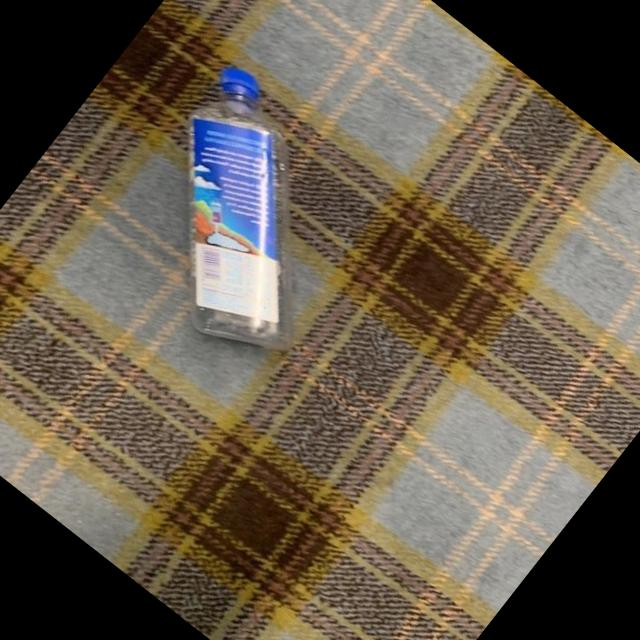BotolPlastik: (85, 57, 406, 380)
